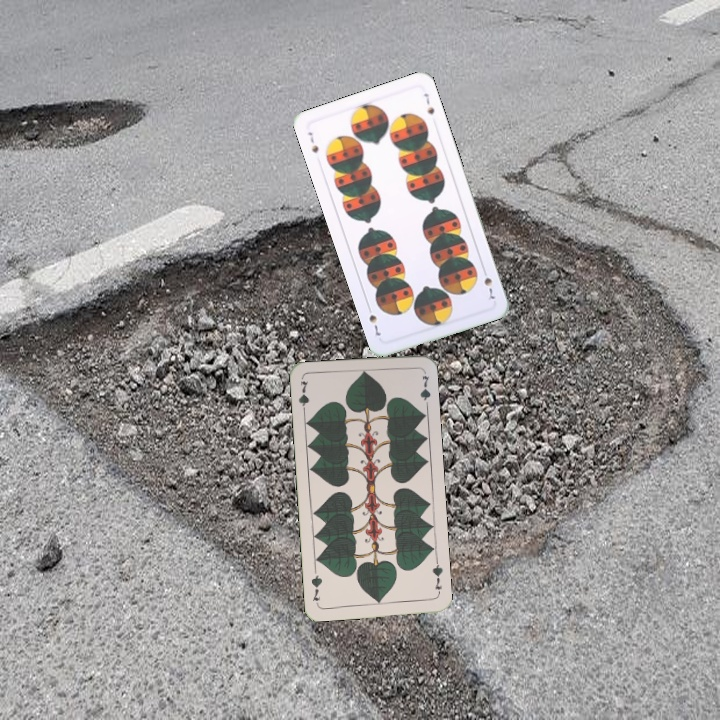G7: (294, 377, 312, 417), (429, 557, 445, 597)
S7: (479, 264, 498, 302), (304, 128, 321, 155)
